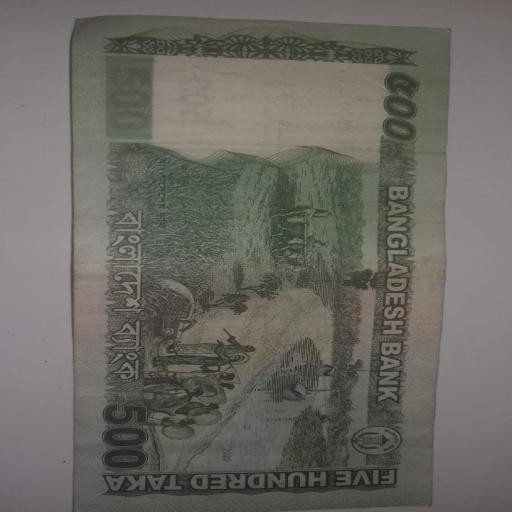500taka: (72, 16, 449, 512)
